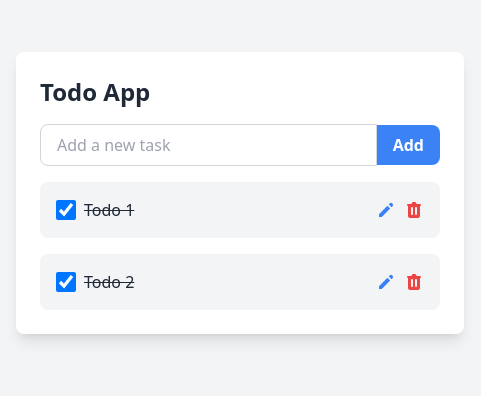
Test: TodoAppコンポーネントのテストケース › Todoを削除する
This screenshot has width=481, height=396.
Type "delete task" into the field with placeholder "Add a new task" at (208, 145), box [40,124,377,166]
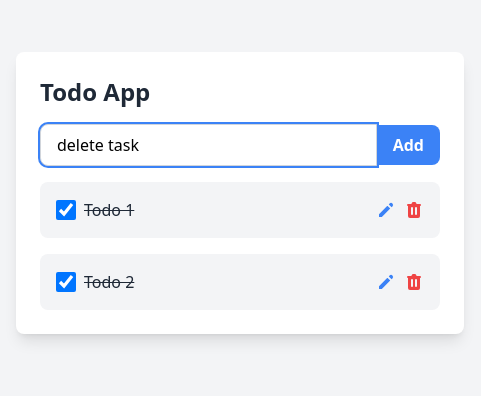
Click the button "Add" at (408, 145), box [377,125,440,165]
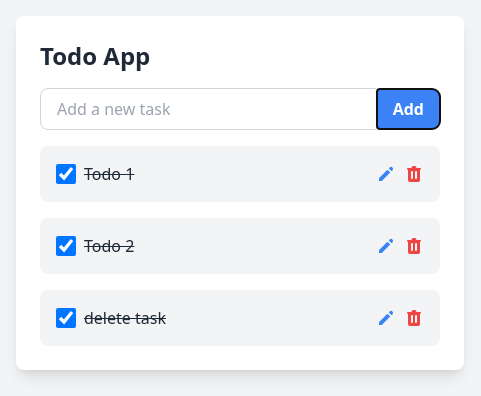
Result: the text "delete task" is shown at [84,306,166,330]
Click the button named "Delete" in the row of "delete task" at (414, 318), box [404,308,424,328]
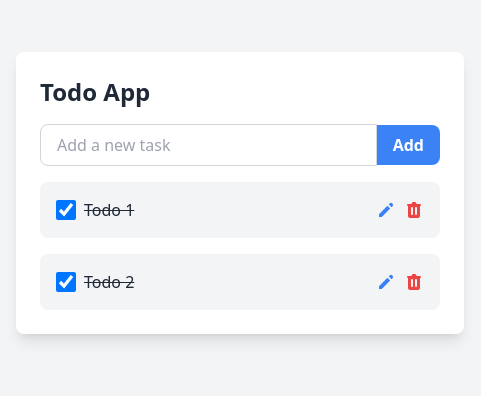
Result: the text "delete task" is gone
